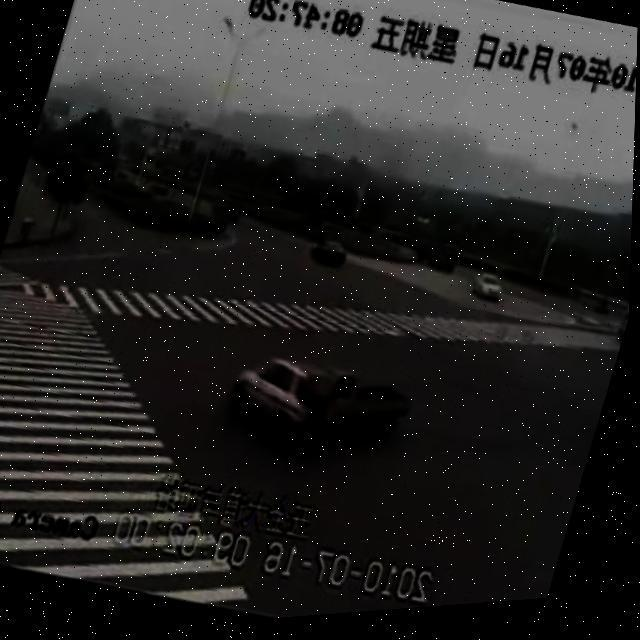Car Accident Detector - v4 Generation1 Exported: (217, 332, 426, 491)
